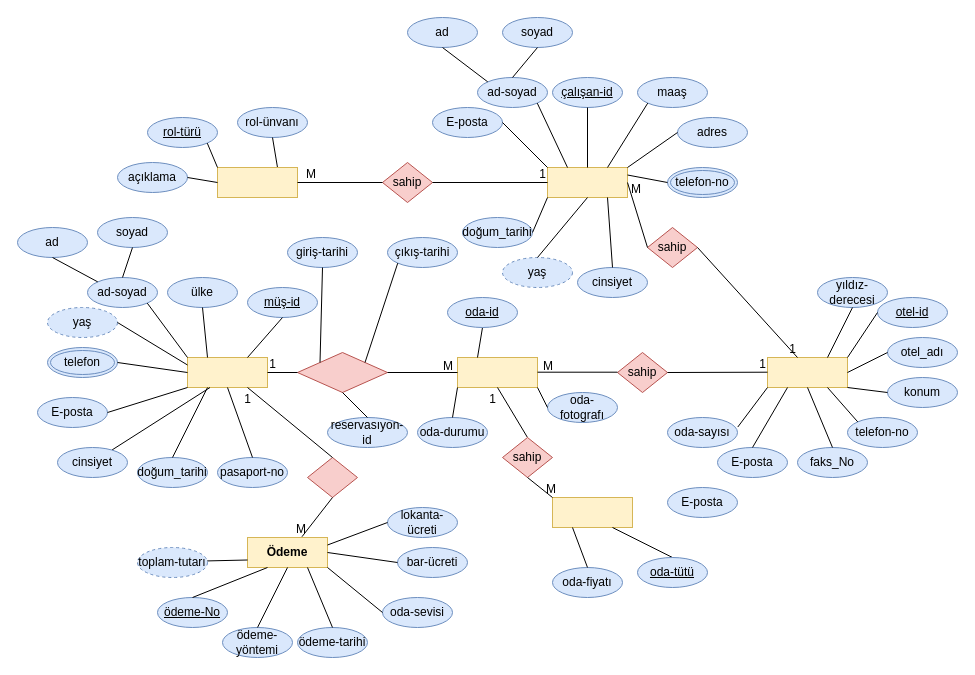
The diagram is 975 pixels wide and 675 high, and some of its shapes have lost their labels. Here are the shapes that lost their labels. From the top down, the box of each, then its label:
(216, 166, 298, 198): Rol
(546, 166, 628, 198): Çalısan
(186, 356, 268, 388): Müşteri
(296, 352, 388, 392): reservasıyon
(456, 356, 538, 388): Oda
(766, 356, 848, 388): Otel
(306, 456, 358, 498): yap
(552, 496, 632, 528): oda-katagorisi
